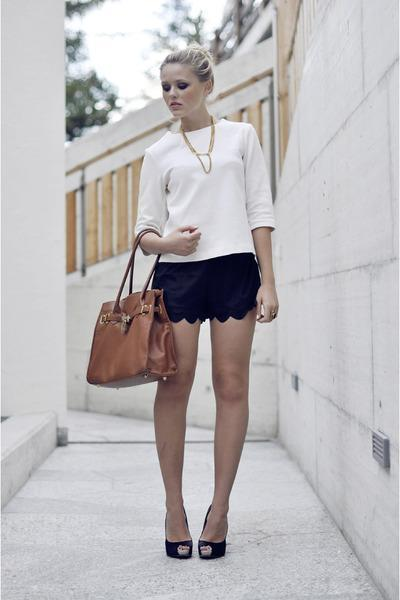bag: (86, 228, 180, 388)
shirt: (135, 119, 270, 261)
shoe: (165, 539, 194, 558)
shorts: (152, 253, 260, 323)
